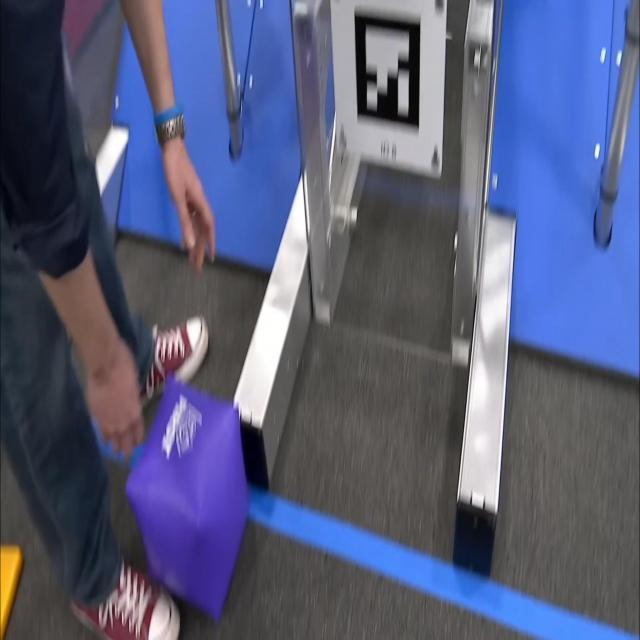frc_cone: (0, 540, 24, 640)
frc_cube: (127, 372, 249, 619)
